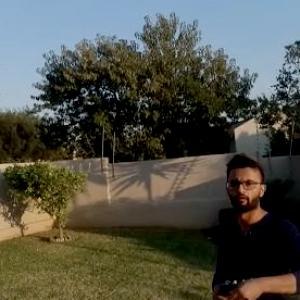follow: (211, 150, 300, 299)
